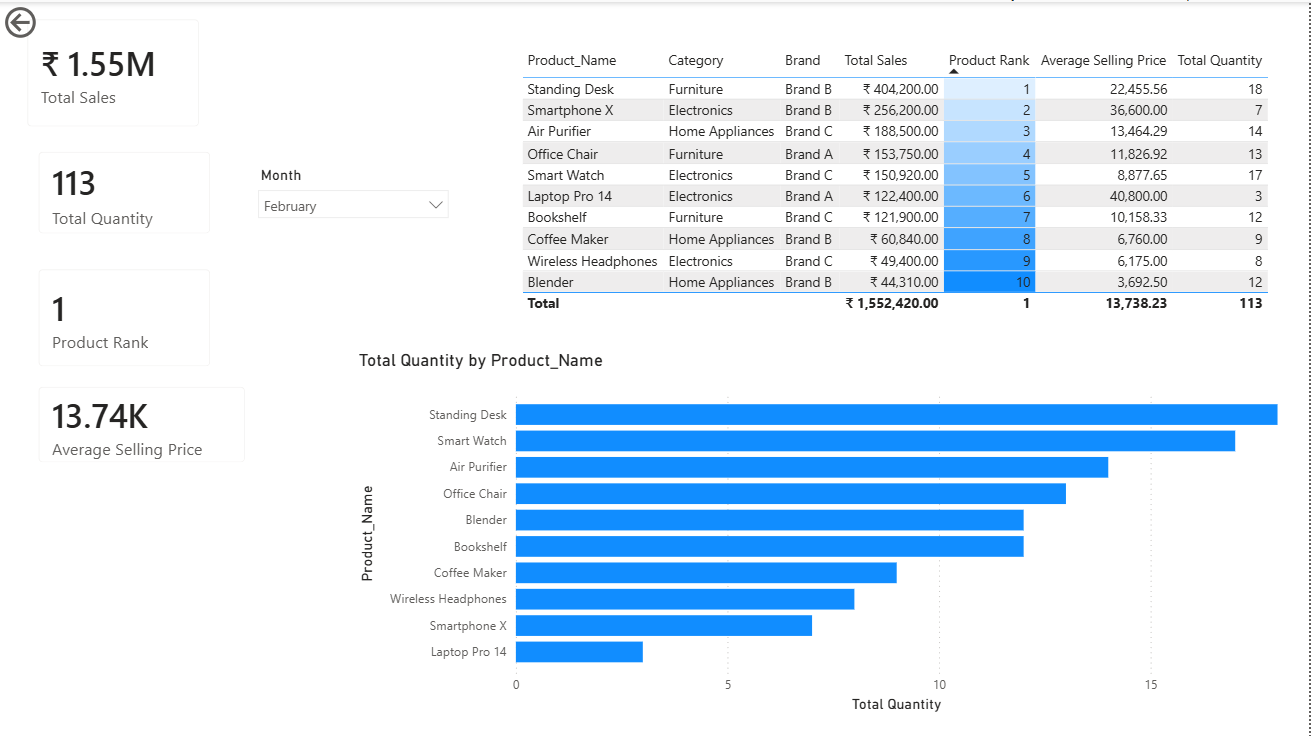

The page's visual inventory and layout, read from the dashboard file:
{"tool":"powerbi","page":{"name":"Product Analysis","canvas":[1280,720],"ordinal":2},"visuals":[{"type":"cardVisual","fields":{"Data":["FactSales.Total Sales"]},"box":[9.8,0,203,139.4],"z":0},{"type":"cardVisual","fields":{"Data":["FactSales.Total Quantity"]},"box":[20.8,129.6,203,114.9],"z":1000},{"type":"cardVisual","fields":{"Data":["FactSales.Average Selling Price"]},"box":[20.8,359.5,236,108.8],"z":2000},{"type":"cardVisual","fields":{"Data":["FactSales.Product Rank"]},"box":[20.8,244.6,203,129.6],"z":3000},{"type":"barChart","fields":{"Category":["DimProduct.Product_Name"],"Y":["FactSales.Total Quantity"]},"box":[346.1,339.9,915.9,359.5],"z":4000},{"type":"tableEx","fields":{"Values":["DimProduct.Product_Name","DimProduct.Category","DimProduct.Brand","FactSales.Total Sales","FactSales.Product Rank","FactSales.Average Selling Price","FactSales.Total Quantity"]},"box":[505.6,39.9,741,276.4],"z":5000},{"type":"actionButton","box":[0,0,100,40],"z":6000},{"type":"slicer","fields":{"Values":["DimDate.Month"]},"box":[242.1,155.3,206.7,89.3],"z":8000}]}

Visuals, with their boxes on the page's 1280x720 design canvas (x1, y1, x2, y2). These are canvas units, not pixel positions in the 1311x737 screenshot, which may show the page scaled, cropped or inside an application window:
cardVisual - FactSales.Total Sales: pyautogui.locateOnScreen(10, 0, 213, 139)
cardVisual - FactSales.Total Quantity: pyautogui.locateOnScreen(21, 130, 224, 244)
cardVisual - FactSales.Average Selling Price: pyautogui.locateOnScreen(21, 360, 257, 468)
cardVisual - FactSales.Product Rank: pyautogui.locateOnScreen(21, 245, 224, 374)
barChart - DimProduct.Product_Name x FactSales.Total Quantity: pyautogui.locateOnScreen(346, 340, 1262, 699)
tableEx - DimProduct.Product_Name x DimProduct.Category: pyautogui.locateOnScreen(506, 40, 1247, 316)
actionButton: pyautogui.locateOnScreen(0, 0, 100, 40)
slicer - DimDate.Month: pyautogui.locateOnScreen(242, 155, 449, 245)
